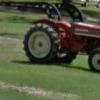Tractor: (19, 3, 100, 71)
